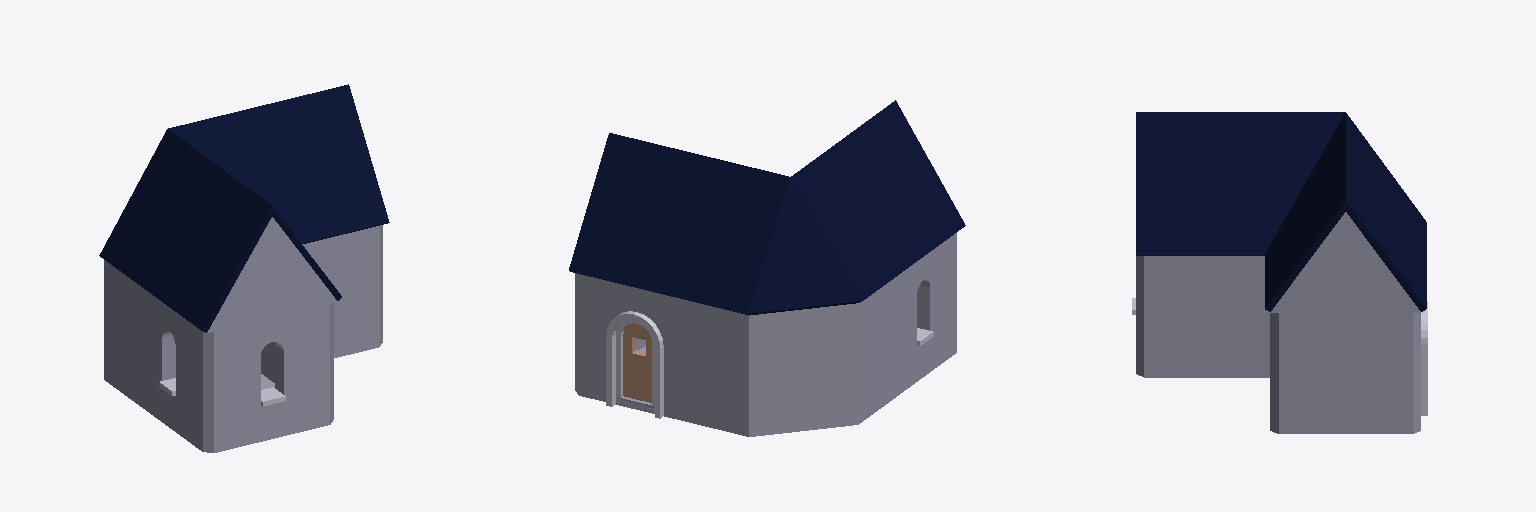
The model's file is House_2.obj.
3 views of the same model, side by side, from view 1: azimuth 30°, elevation 25°; view 2: azimuth 150°, elevation 25°; view 3: azimuth 270°, elevation 25° (orthographic).
Parts seen in each view (by area): view 1: roof_straight_157, roof_straight_158, wall_windowRound_119, wall_windowRound_117, roof_cornerDiagonal_155, wall_corner_156, wall_cornerDiagonal_115, floor_square_133, floor_square_142; view 2: wall_cornerDiagonal_115, roof_cornerDiagonal_155, roof_straight_158, roof_straight_157, wall_doorwayRound_120, wall_windowRound_117, door_round_127, floor_square_134; view 3: roof_straight_157, roof_straight_158, wall_straight_125, wall_corner_156, roof_cornerDiagonal_155, wall_doorwayRound_120, floor_square_143, wall_windowRound_119, floor_square_133.
Boxes of the visible parts, x1=… form: roof_straight_157: x1=127, y1=151, x2=341, y2=332; roof_straight_158: x1=218, y1=84, x2=389, y2=243; wall_windowRound_119: x1=203, y1=302, x2=333, y2=452; wall_windowRound_117: x1=135, y1=282, x2=213, y2=452; roof_cornerDiagonal_155: x1=99, y1=116, x2=235, y2=275; wall_corner_156: x1=261, y1=226, x2=379, y2=382; wall_cornerDiagonal_115: x1=104, y1=260, x2=134, y2=401; floor_square_133: x1=135, y1=374, x2=333, y2=452; floor_square_142: x1=214, y1=296, x2=329, y2=330; wall_cornerDiagonal_115: x1=695, y1=282, x2=889, y2=436; roof_cornerDiagonal_155: x1=699, y1=156, x2=889, y2=315; roof_straight_158: x1=569, y1=133, x2=739, y2=303; roof_straight_157: x1=820, y1=100, x2=965, y2=280; wall_doorwayRound_120: x1=575, y1=273, x2=694, y2=423; wall_windowRound_117: x1=890, y1=233, x2=956, y2=400; door_round_127: x1=616, y1=320, x2=654, y2=413; floor_square_134: x1=575, y1=346, x2=687, y2=419; roof_straight_157: x1=1136, y1=112, x2=1286, y2=255; roof_straight_158: x1=1265, y1=137, x2=1426, y2=312; wall_straight_125: x1=1270, y1=313, x2=1412, y2=433; wall_corner_156: x1=1144, y1=256, x2=1269, y2=377; roof_cornerDiagonal_155: x1=1287, y1=112, x2=1426, y2=244; wall_doorwayRound_120: x1=1413, y1=302, x2=1427, y2=433; floor_square_143: x1=1279, y1=305, x2=1412, y2=312; wall_windowRound_119: x1=1132, y1=256, x2=1143, y2=376; floor_square_133: x1=1136, y1=366, x2=1269, y2=377.
Bounding box in the file's own units: 2.17 × 1.92 × 2.21.